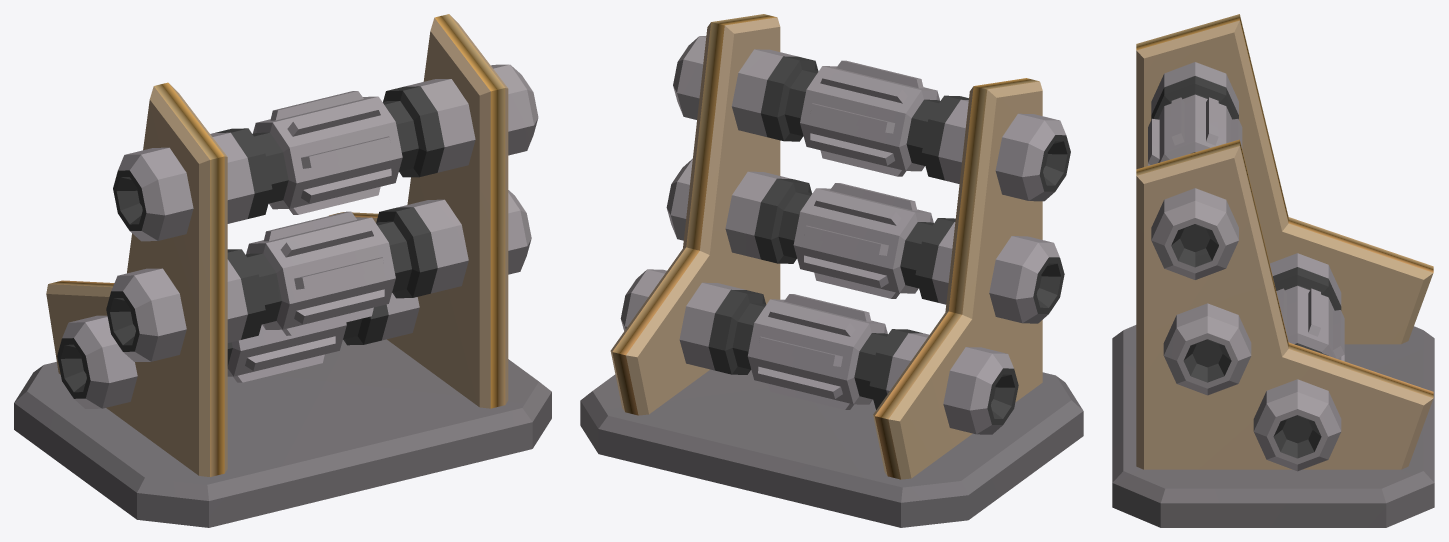
File: entity76746.glb
3 views of the same model, side by side, from view 1: azimuth 30°, elevation 25°; view 2: azimuth 150°, elevation 25°; view 3: azimuth 270°, elevation 25° (orthographic). The views are drawn at different scales.
Parts seen in each view (by area): view 1: node_SM_Bld_Greeble_17; view 2: node_SM_Bld_Greeble_17; view 3: node_SM_Bld_Greeble_17.
Part boxes in pixels (x1,y1,x2,y2): node_SM_Bld_Greeble_17: (14,14,551,527); node_SM_Bld_Greeble_17: (580,14,1083,527); node_SM_Bld_Greeble_17: (1112,14,1434,527).
Bounding box in the file's own units: 1.71 × 1.53 × 1.26.
1 material, 1 textured.
